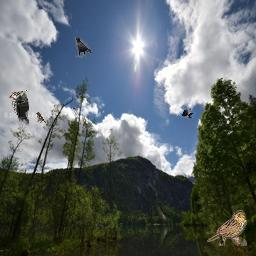Crow: (75, 37, 92, 58), (179, 108, 196, 118)
Sparrow: (207, 210, 247, 246), (36, 112, 46, 123)
Woodpecker: (9, 90, 29, 126)
